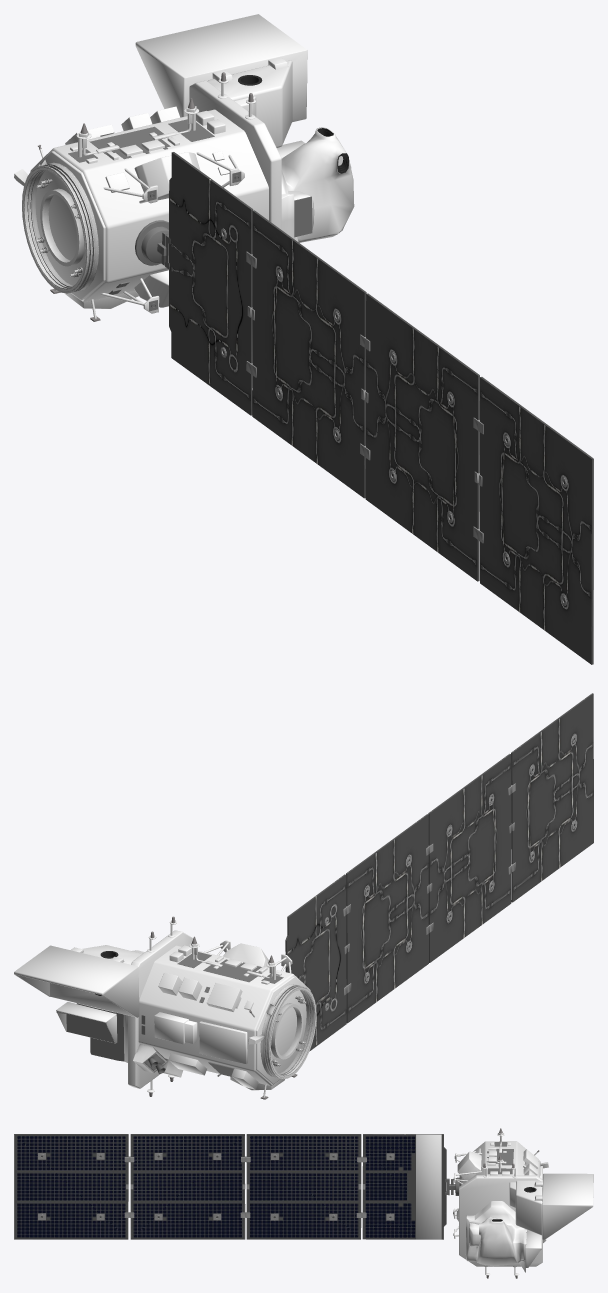
Rendered from landsat9.glb.
3 views of the same model, one above another, from view 1: azimuth 30°, elevation 25°; view 2: azimuth 150°, elevation 25°; view 3: azimuth 270°, elevation 25° (orthographic). The views are drawn at different scales.
Parts seen in each view (by area): view 1: solar_2, inst_1, bus_4, bus_2, bus_1, solar_1, bus_3, solar_3, solar_5; view 2: solar_2, bus_4, bus_2, inst_1, bus_1, inst_4, bus_3, solar_1; view 3: solar_2, inst_1, bus_4, solar_4, bus_2, solar_1, bus_3, solar_3.
Part boxes in pixels (x1,y1,x2,y2): solar_2: (169, 152, 593, 664); inst_1: (135, 14, 354, 242); bus_4: (30, 80, 281, 302); bus_2: (38, 72, 255, 321); bus_1: (14, 159, 98, 293); solar_1: (220, 228, 567, 605); bus_3: (68, 119, 214, 294); solar_3: (100, 152, 244, 313); solar_5: (135, 220, 170, 269); solar_2: (285, 693, 593, 1051); bus_4: (128, 930, 310, 1088); bus_2: (147, 916, 297, 1099); inst_1: (14, 945, 144, 1062); bus_1: (133, 984, 316, 1079); inst_4: (56, 1003, 124, 1061); bus_3: (141, 952, 283, 1076); solar_1: (324, 735, 576, 1010); solar_2: (14, 1134, 446, 1239); inst_1: (465, 1173, 593, 1272); bus_4: (459, 1141, 542, 1266); solar_4: (416, 1134, 441, 1239); bus_2: (456, 1128, 542, 1278); solar_1: (38, 1153, 394, 1220); bus_3: (459, 1142, 525, 1185); solar_3: (453, 1151, 481, 1238).
Size of the model in its own units: 5.25 by 3.84 by 17.47.
Materials: 10 (2 with a texture image).
